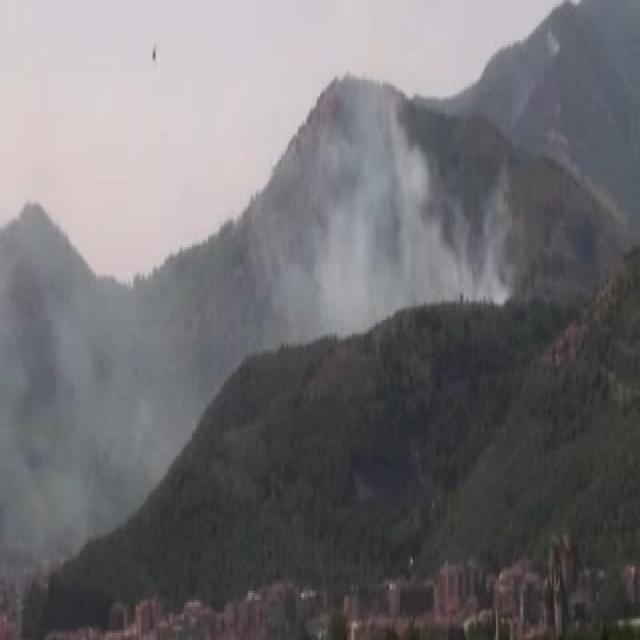smoke: (281, 88, 498, 330), (34, 292, 175, 486)
